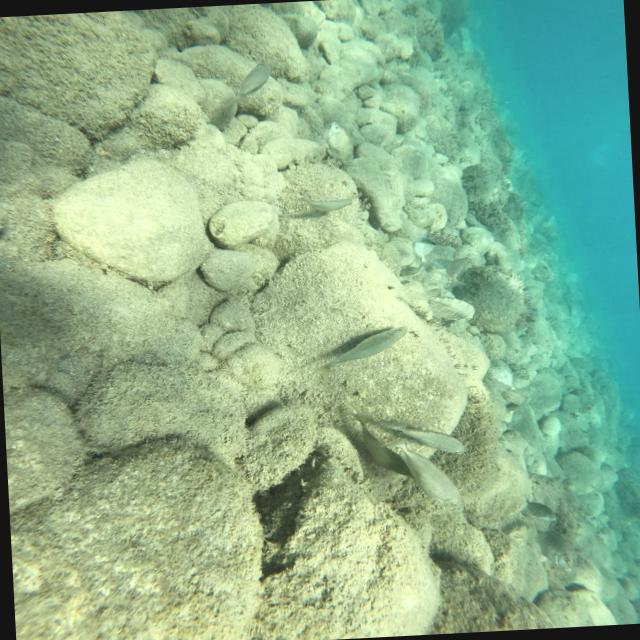Sokar Baligi: (309, 314, 418, 376), (368, 405, 477, 462)
